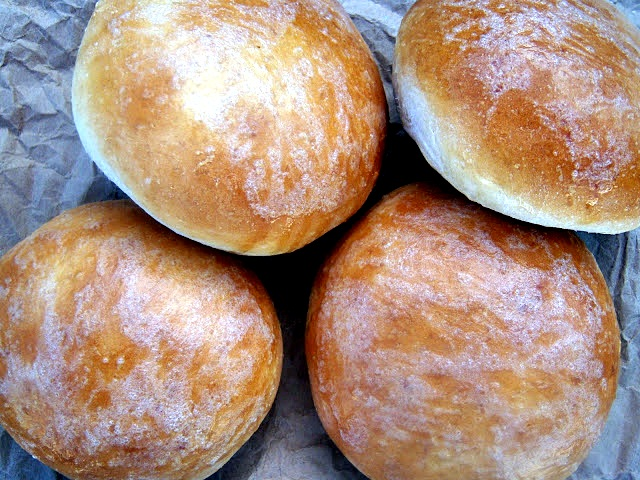hamburger_buns: (298, 174, 619, 480), (52, 1, 391, 262), (364, 10, 640, 237)
